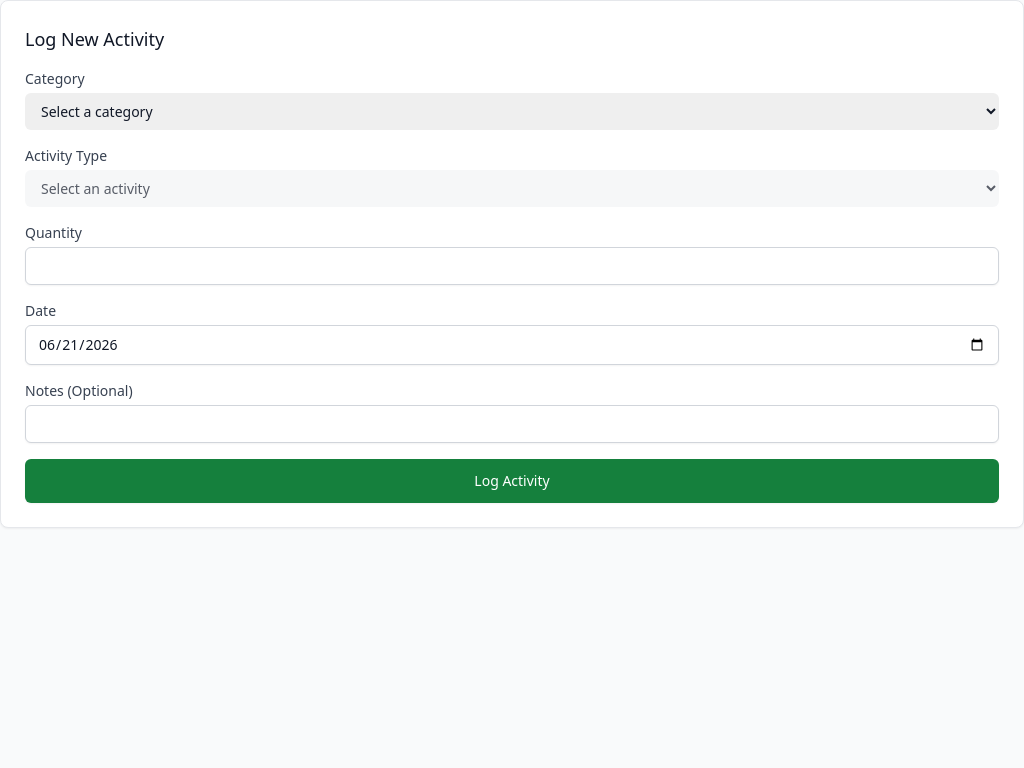
Test: ActivityForm › announces API failures
Select "Transportation" in the dropdown labelled "Category" at (512, 112), box x1=25 y1=93 x2=999 y2=130
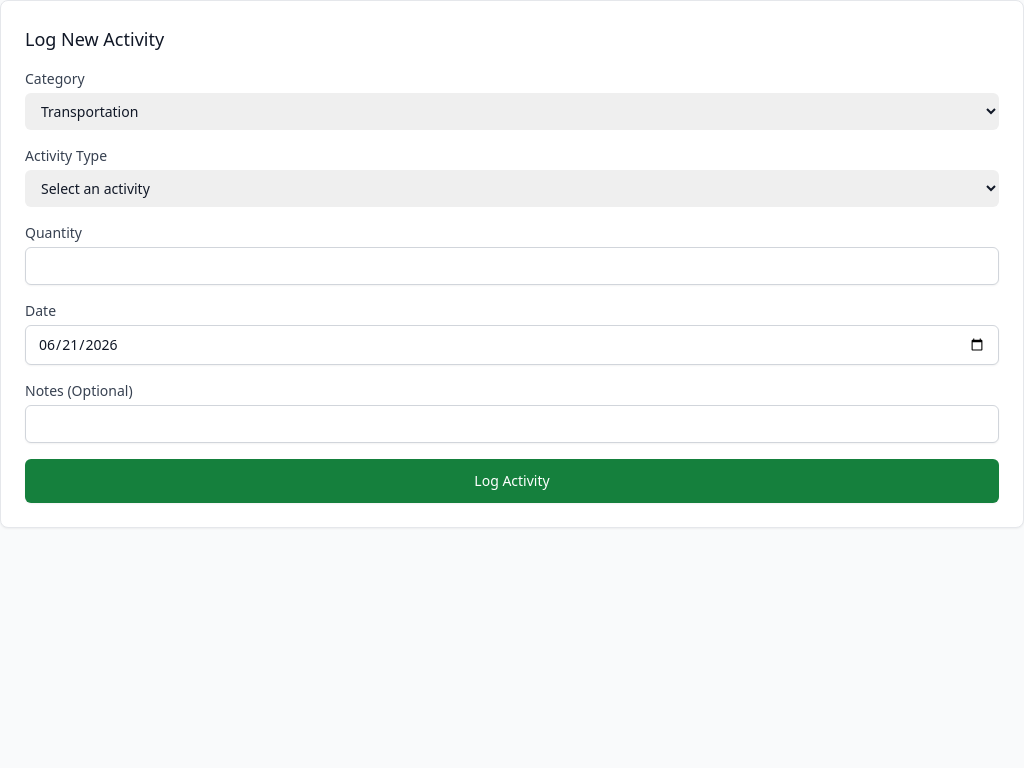
Select "Car (Petrol)" in the dropdown labelled "Activity Type" at (512, 188), box x1=25 y1=170 x2=999 y2=207
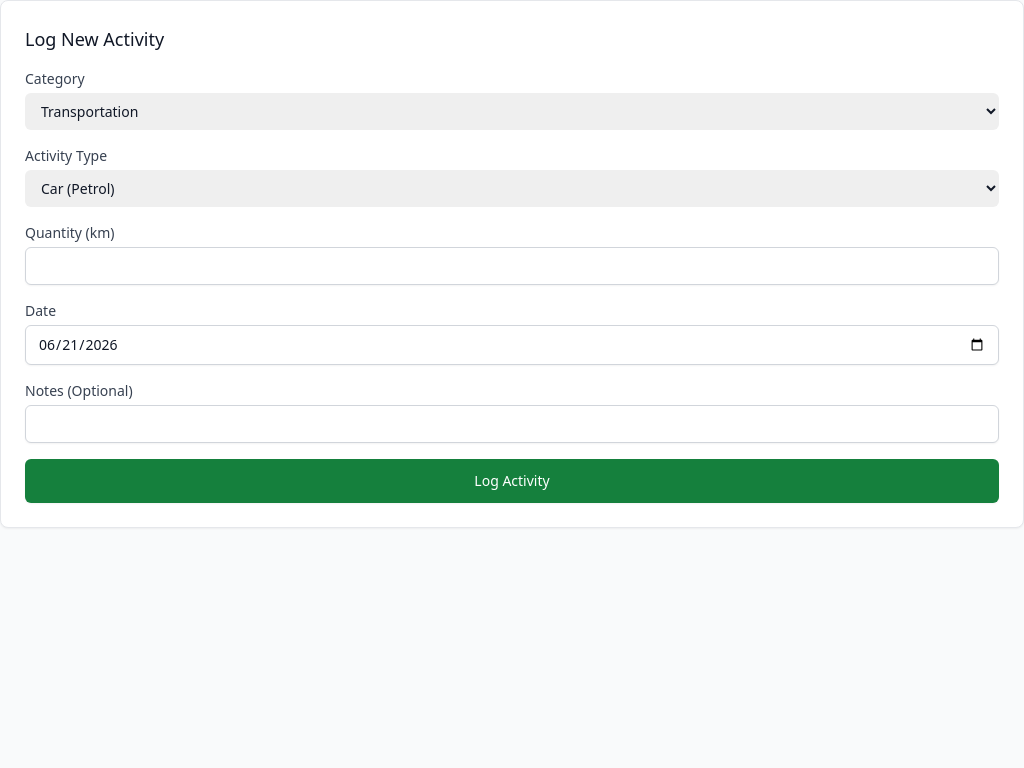
Type "10" into the number field labelled "Quantity (km)" at (512, 266), box x1=25 y1=247 x2=999 y2=285
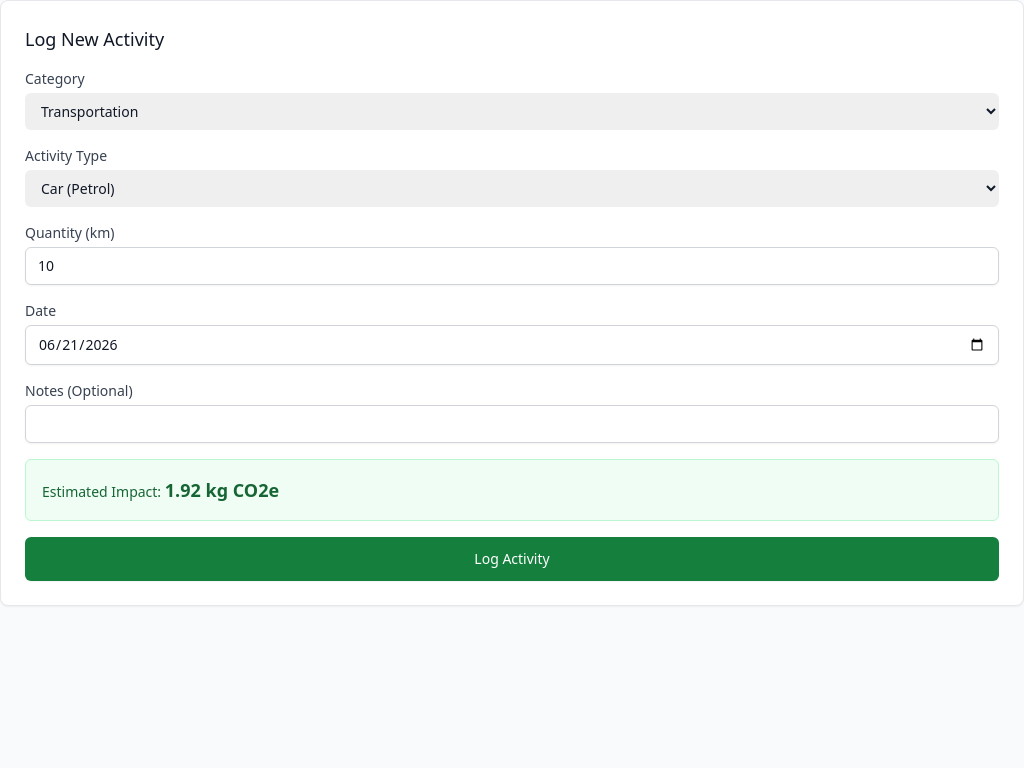
Click the button "Log Activity" at (512, 559), box x1=25 y1=537 x2=999 y2=581
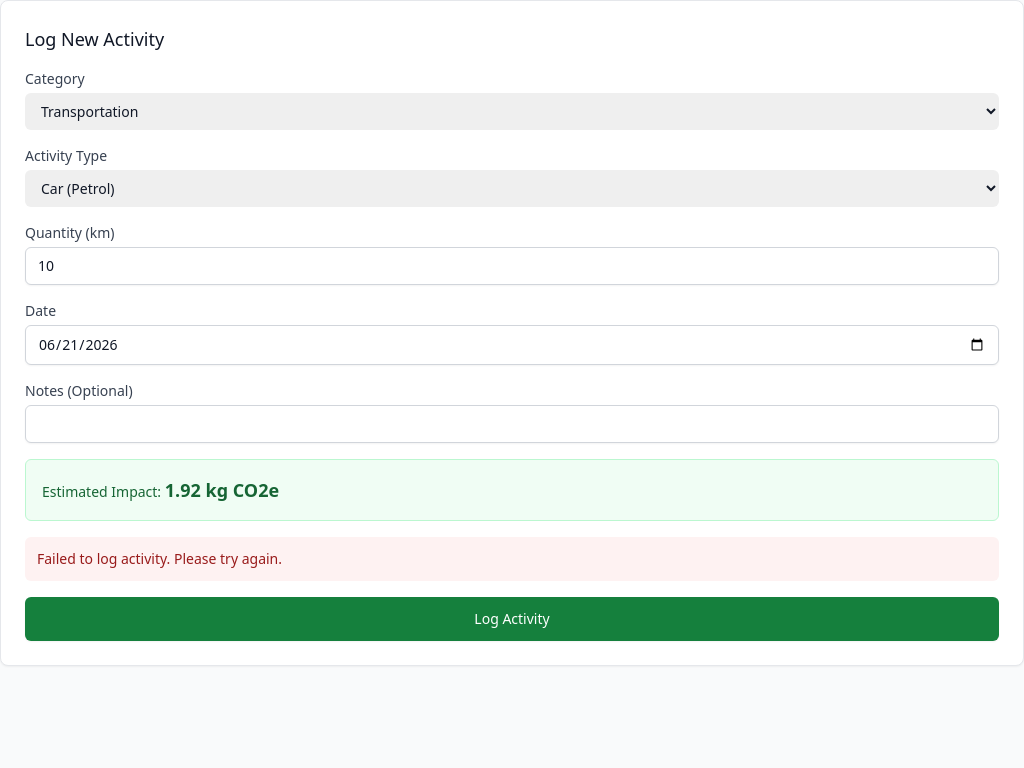
Now the message "Failed to log activity. Please try again." is shown, box x1=25 y1=537 x2=999 y2=581
